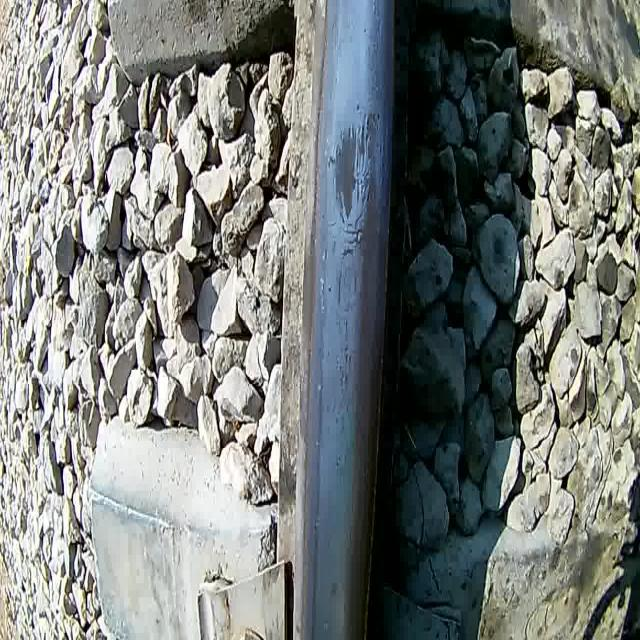Cracks: (335, 182, 373, 316), (354, 110, 373, 178)
Squats: (325, 106, 382, 227)
